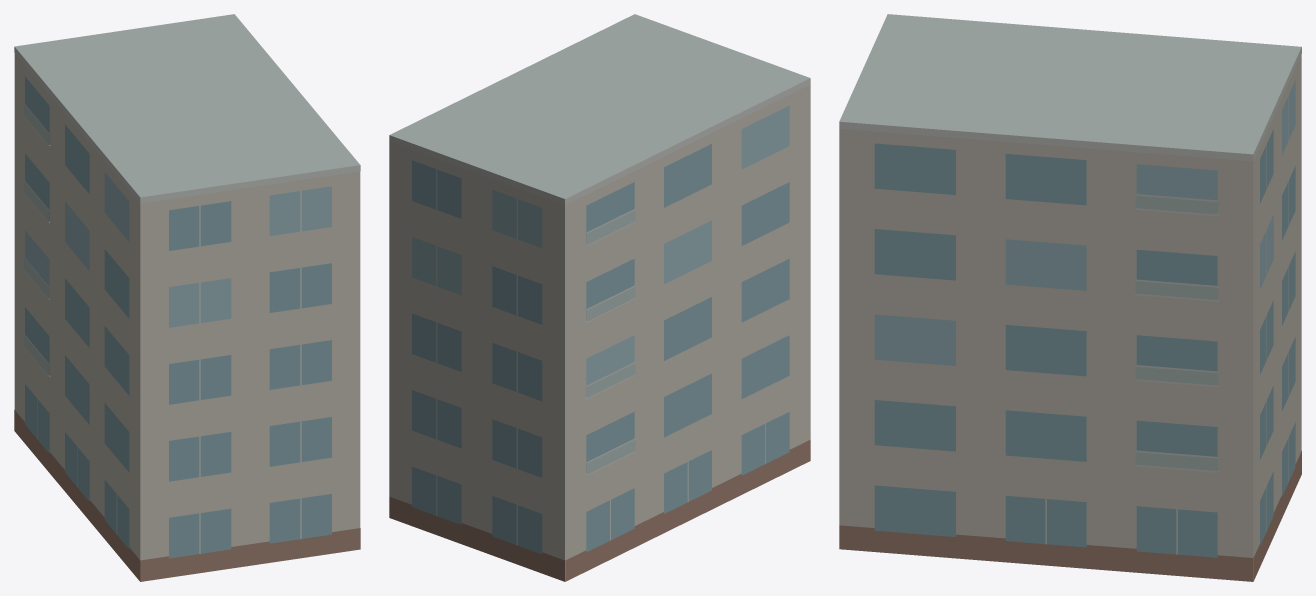
Rendered from survey-upis-33040830.glb.
3 renders of one model, left to right at view 1: azimuth 30°, elevation 25°; view 2: azimuth 150°, elevation 25°; view 3: azimuth 270°, elevation 25°, orthographic. The views are drawn at different scales.
Visible parts, largest first — view 1: survey-upis-33040830.tmp; view 2: survey-upis-33040830.tmp; view 3: survey-upis-33040830.tmp.
Part boxes in pixels (box(x1,y1,x2,y2)): survey-upis-33040830.tmp: box(14, 14, 360, 581); survey-upis-33040830.tmp: box(389, 14, 810, 581); survey-upis-33040830.tmp: box(839, 14, 1301, 581).
Size of the model in its own units: 10.64 by 15.1 by 14.82.
